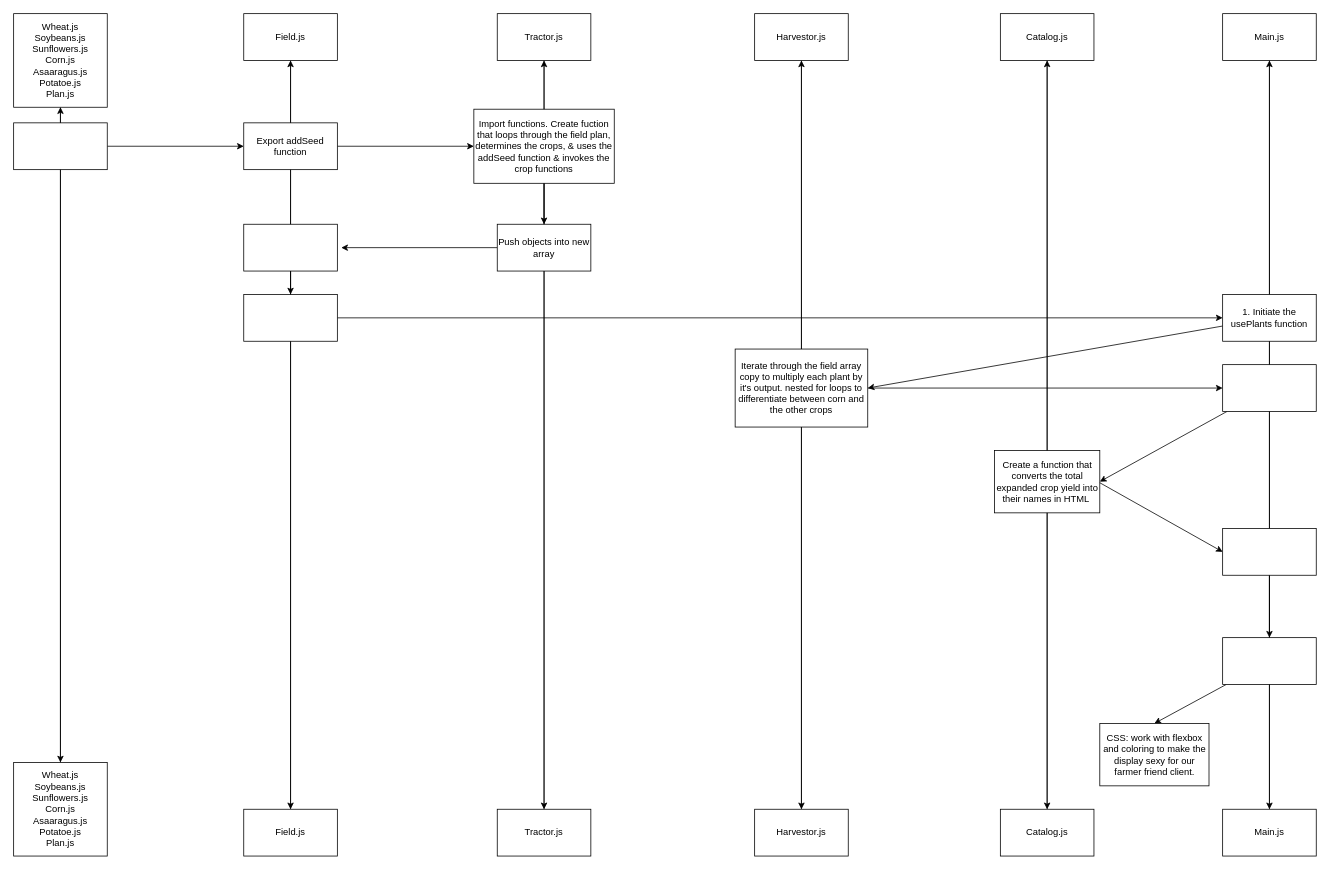
This 1330x870 diagram has some shape labels left out. Here are the shapes that lost their labels. From the top down, the centre of each, then its label:
At (x=60, y=146): "Export function on each individual module".
At (x=290, y=247): "New array is not exported and is located in the field.js module".
At (x=290, y=317): "2. to create a copy of the field array to send to the harvestor".
At (x=1269, y=387): "Create a function".
At (x=1269, y=551): "Run the catalog function with the harvestor results to get the HTML output".
At (x=1269, y=660): "Replace the .container class in the <main> html with the results".
